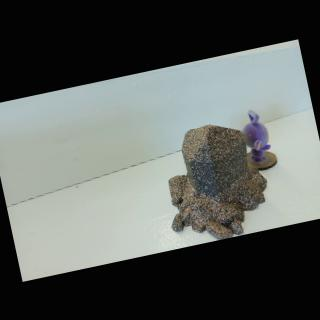teletubby: (241, 110, 270, 163)
